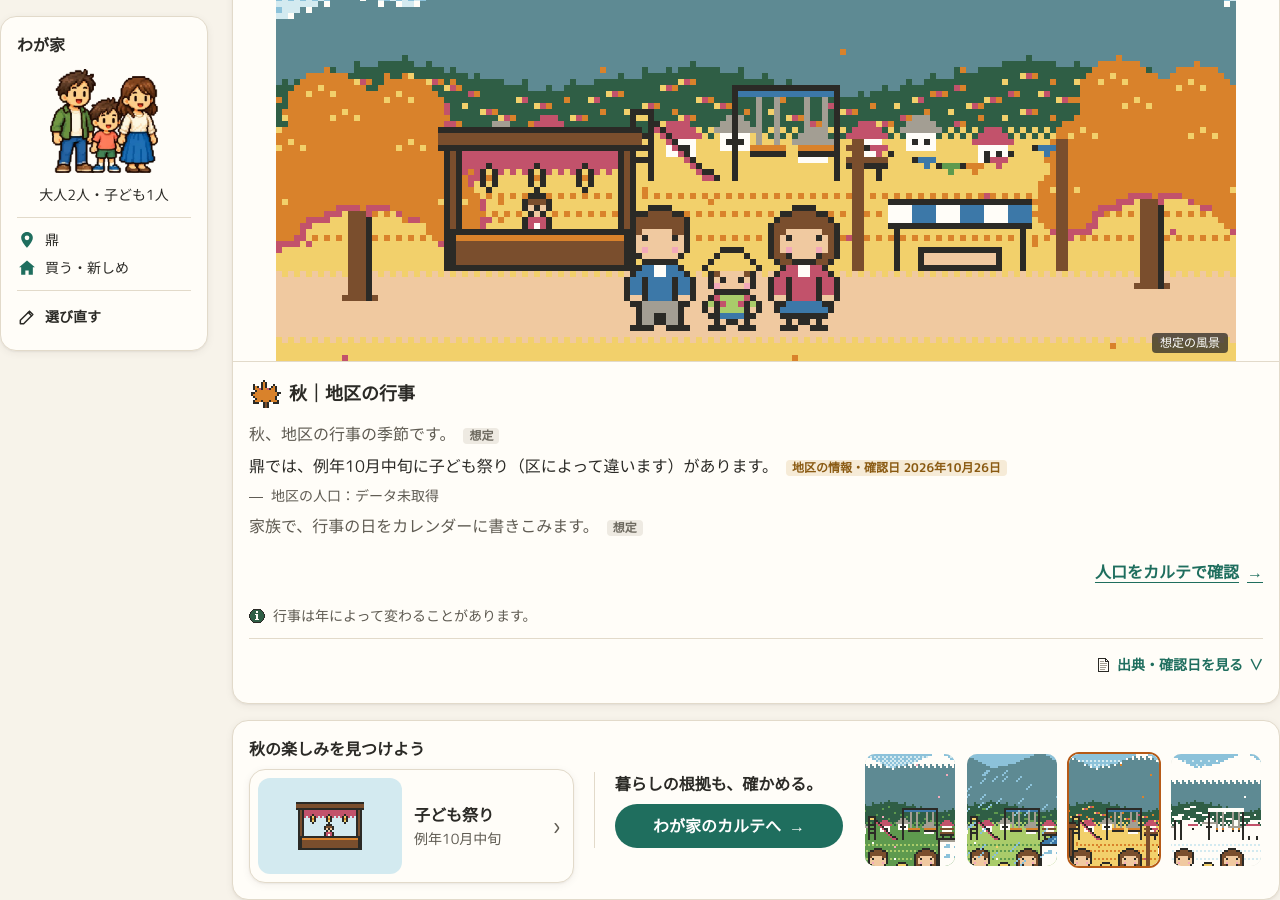
Scenario: KurashiView：地区の行事（F-13） › 「秋の楽しみ」から行事のシートを開く。子ども向けを先に出し、区ごとの行事は「区によって違います」。確認日と注意書きを添える
(page scrolled)
Click the button "子ども祭り 例年10月中旬 ›".
click(411, 826)  # box [249, 769, 574, 883]
(page scrolled)
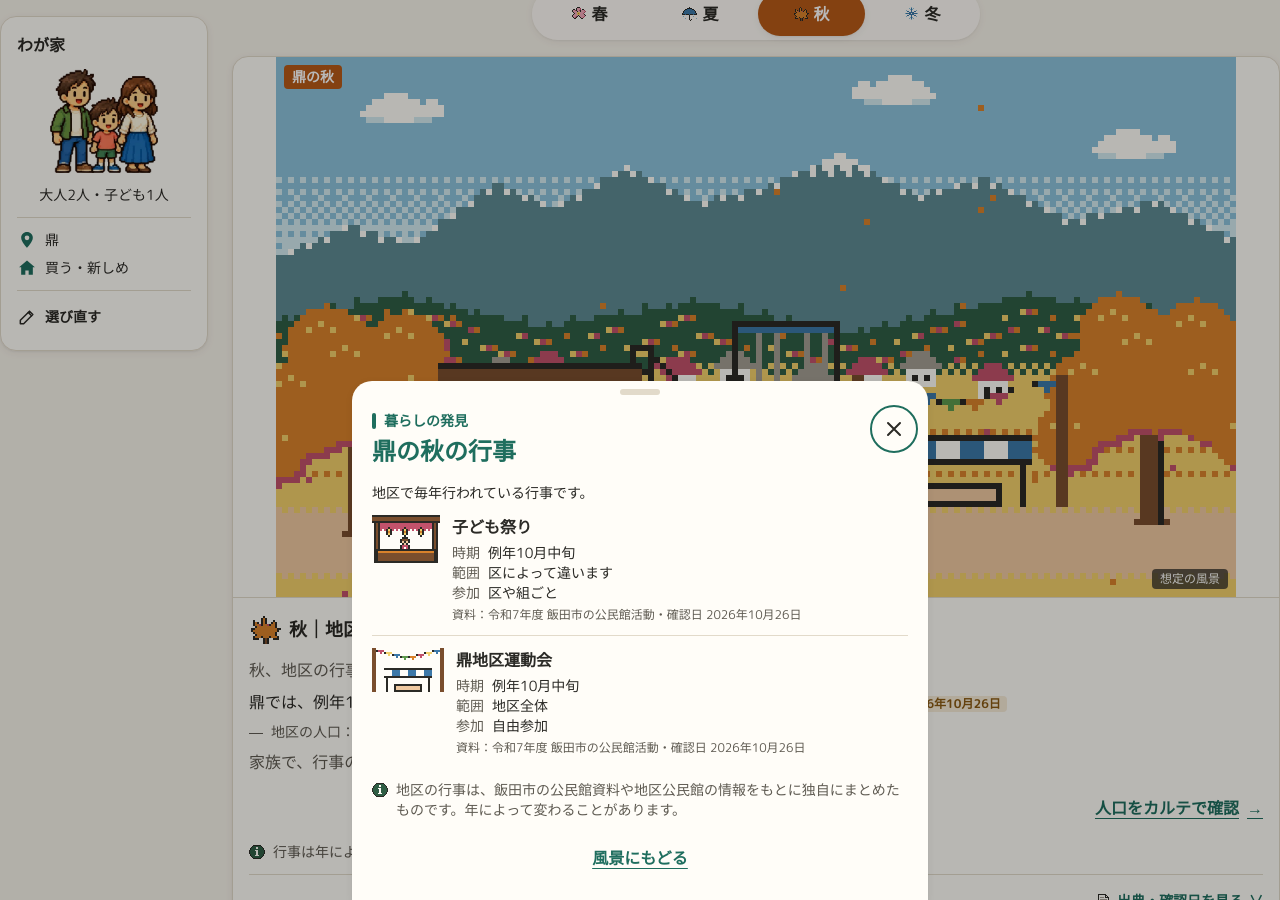
Check: the headings read "子ども祭り", "鼎地区運動会", in this order, box [452, 516, 532, 538]; [456, 649, 552, 671]
Check: the dialog "鼎の秋の行事" shows "区によって違います", box [488, 563, 613, 582]
Check: the dialog "鼎の秋の行事" shows "確認日 2026年10月26日", box [352, 381, 928, 899]
